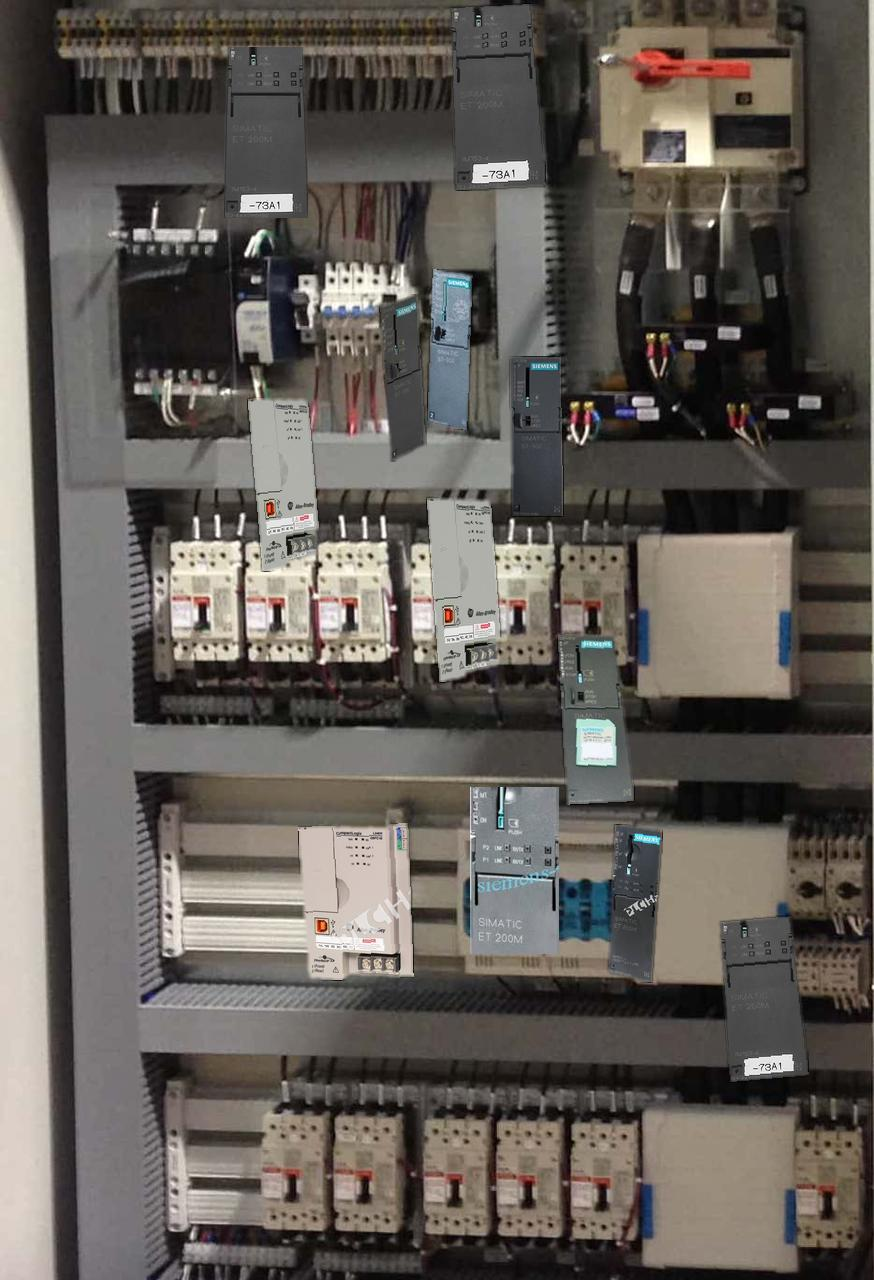AllenBradley: (298, 824, 413, 979), (427, 498, 500, 681), (248, 398, 318, 570)
Siemens: (558, 635, 633, 804), (511, 357, 562, 515), (380, 294, 424, 461), (428, 269, 471, 429)
